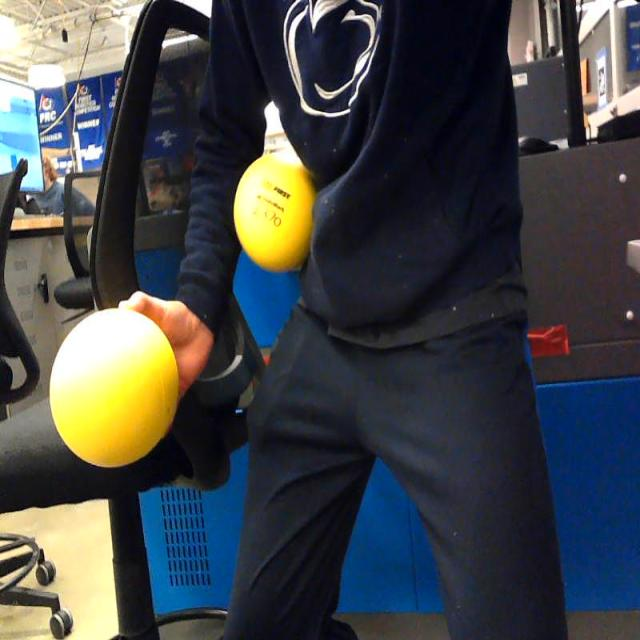Fuel: (50, 307, 178, 469), (234, 152, 321, 272)
